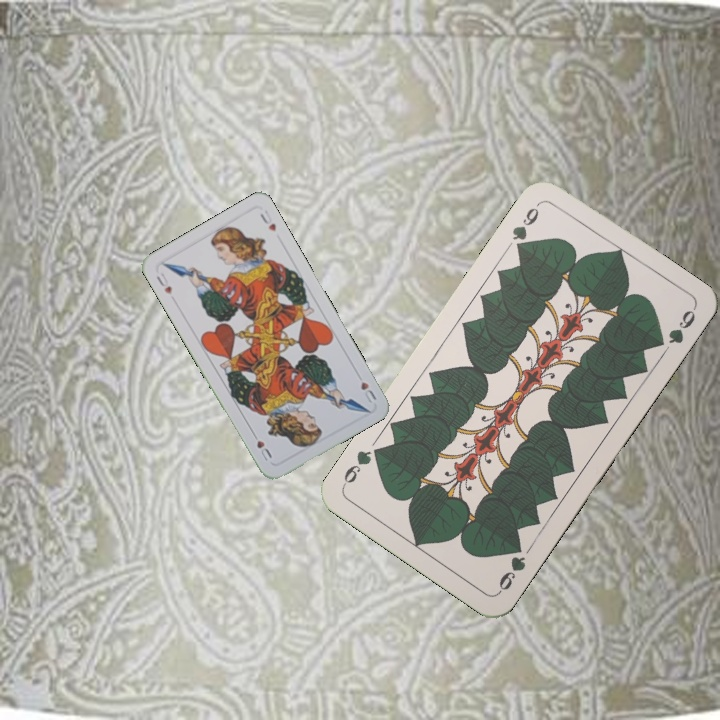G9: (507, 199, 543, 256), (494, 538, 529, 596)
HU: (152, 267, 175, 297), (357, 377, 379, 406)
